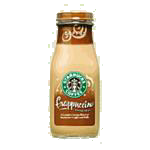grozi_73: (49, 11, 101, 139)
